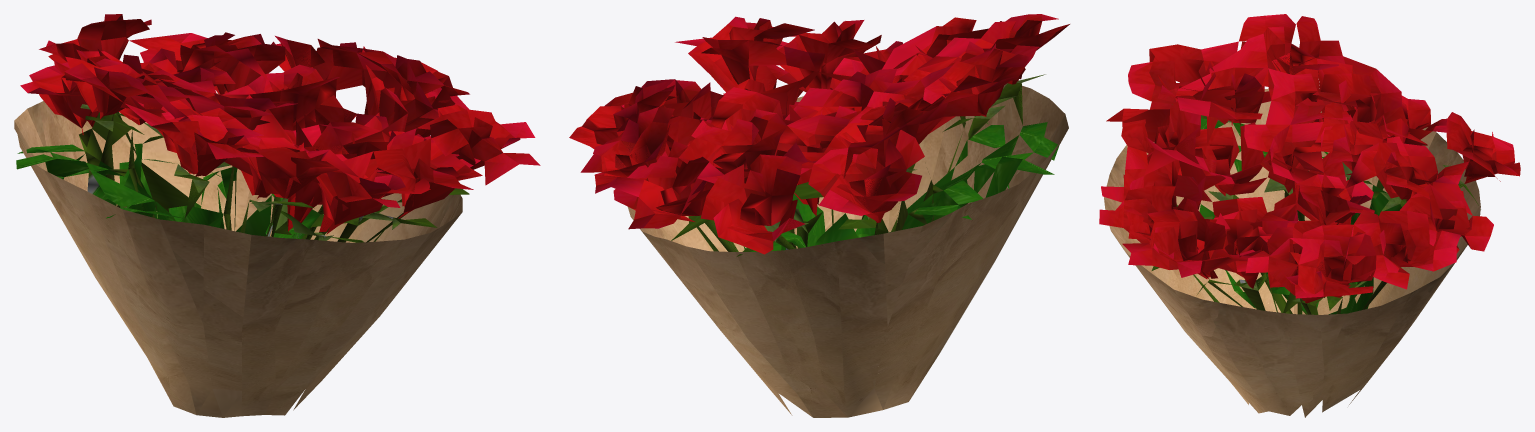
3 renders of one model, left to right at view 1: azimuth 30°, elevation 25°; view 2: azimuth 150°, elevation 25°; view 3: azimuth 270°, elevation 25°, orthographic. The views are drawn at different scales.
Visible parts, largest first — view 1: f1a984ec; view 2: f1a984ec; view 3: f1a984ec.
Boxes of the visible parts, <box> form: f1a984ec: <box>14,14,540,417</box>; f1a984ec: <box>569,14,1069,417</box>; f1a984ec: <box>1099,14,1520,417</box>.
Bounding box in the file's own units: 0.1528 × 0.1215 × 0.1471.
6 materials, 6 textured.
